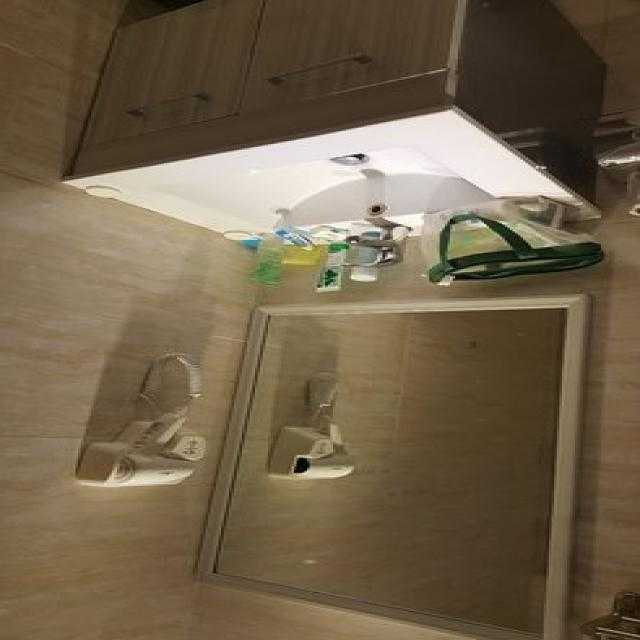dryer: (46, 334, 233, 501)
